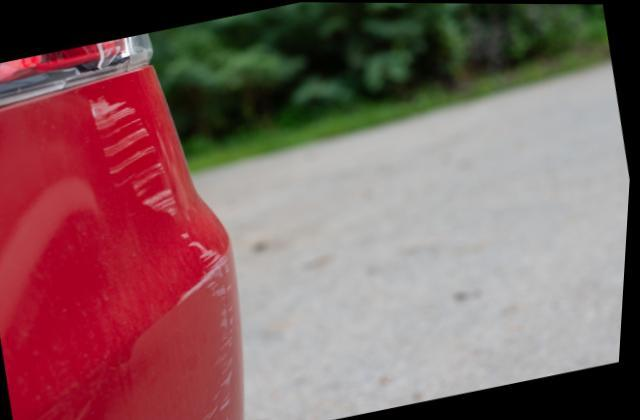lamp broken: (0, 32, 155, 107)
scratch: (84, 93, 236, 420)
